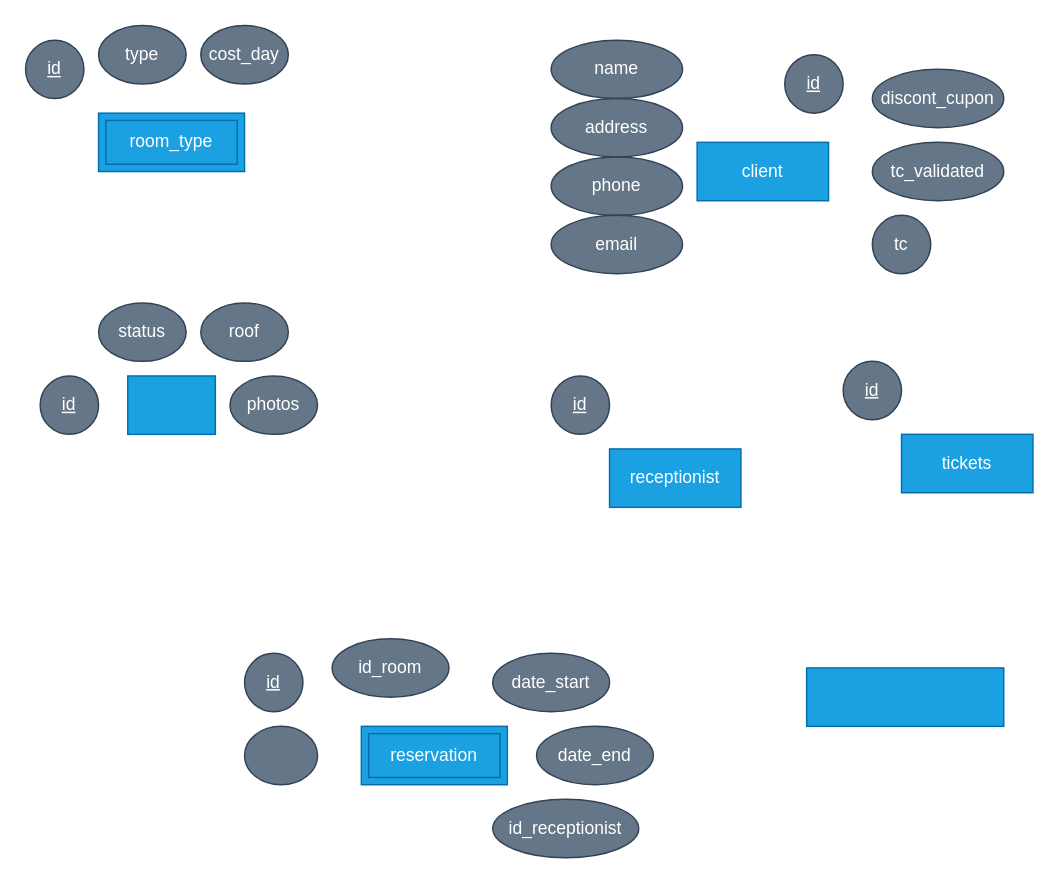
Some shapes in this 1059 by 883 pixel diagram are drawn without their labels. The shapes that lost their labels are listed below. From the top down, each one's centre as x and y in pixels, then its label:
At [170,404]: "rooms".
At [904,696]: "extra_reservation".
At [280,755]: "paid".
